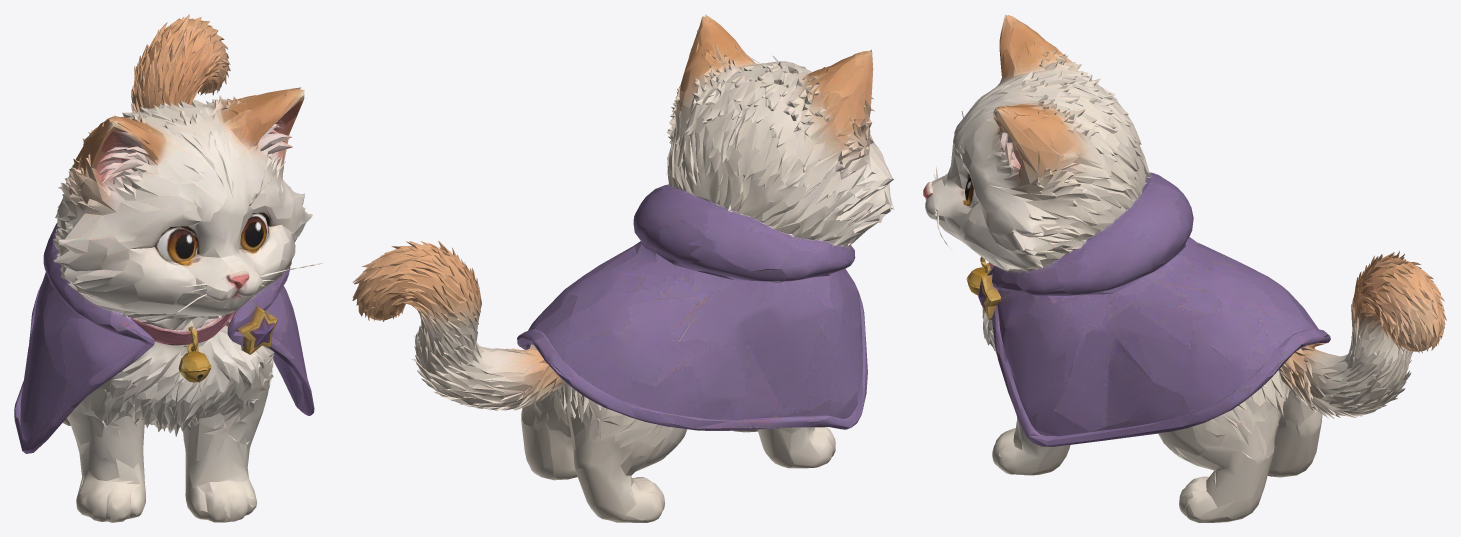
The model's file is mochi_mobile.glb.
The picture shows the model from 3 angles, left to right: view 1: azimuth 30°, elevation 25°; view 2: azimuth 150°, elevation 25°; view 3: azimuth 270°, elevation 25°; orthographic projection. The views are drawn at different scales.
Size of the model in its own units: 1.46 by 1.59 by 1.89.
1 material, 1 textured.
